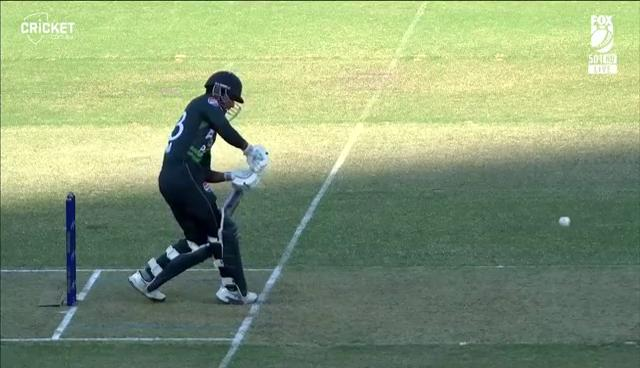ball: (552, 208, 577, 233)
